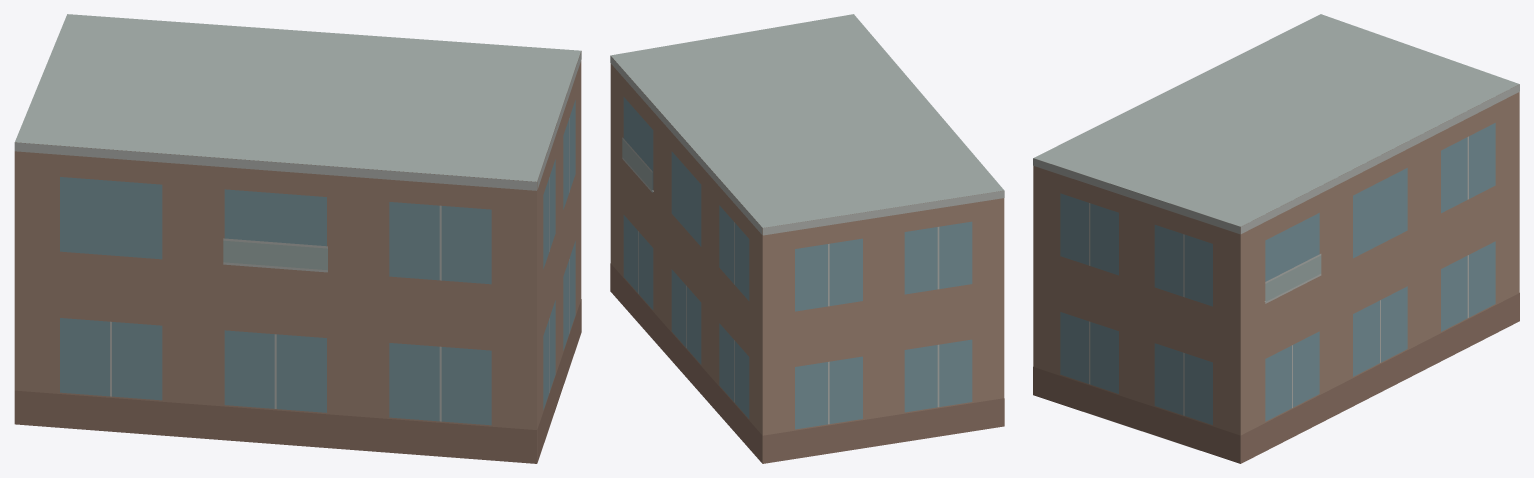
The model's file is survey-upis-32625306.glb.
3 views of the same model, side by side, from view 1: azimuth 30°, elevation 25°; view 2: azimuth 150°, elevation 25°; view 3: azimuth 270°, elevation 25° (orthographic). The views are drawn at different scales.
Parts seen in each view (by area): view 1: survey-upis-32625306.tmp; view 2: survey-upis-32625306.tmp; view 3: survey-upis-32625306.tmp.
Boxes of the visible parts, bbox=[...] form: survey-upis-32625306.tmp: bbox=[14, 14, 581, 463]; survey-upis-32625306.tmp: bbox=[610, 14, 1004, 463]; survey-upis-32625306.tmp: bbox=[1033, 14, 1519, 463].
Bounding box in the file's own units: 14.64 × 7.6 × 14.14.
